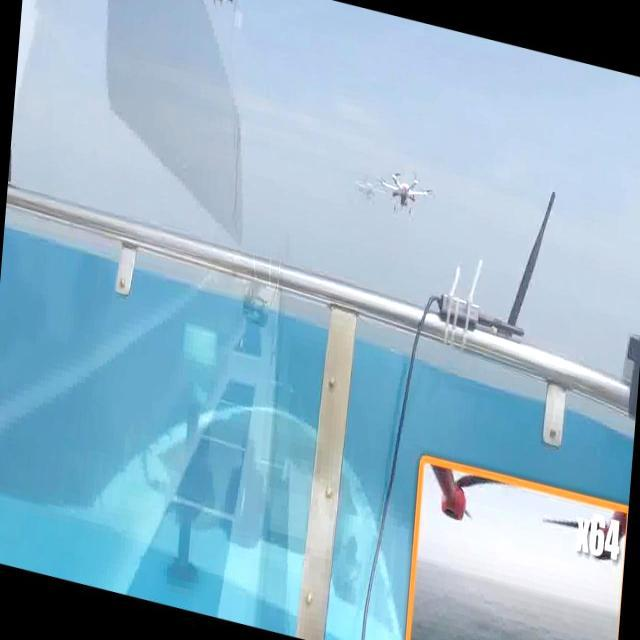drone: (368, 140, 442, 232), (186, 0, 246, 27)
